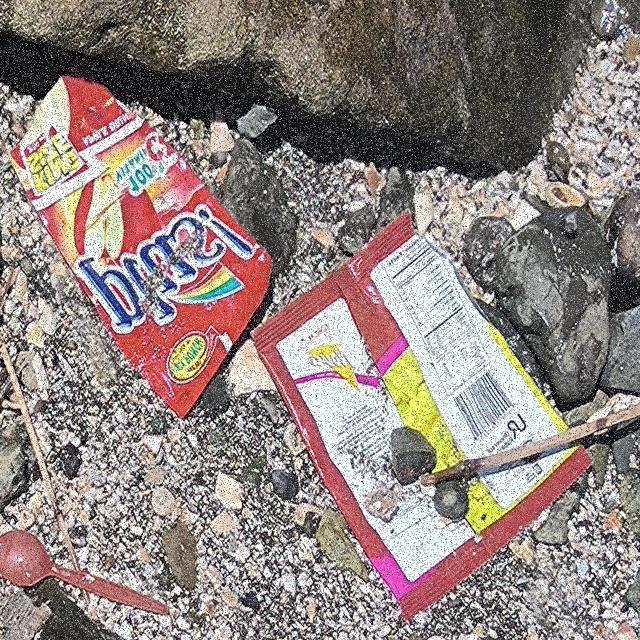plastic_waste: (249, 205, 597, 627), (9, 73, 276, 421)
